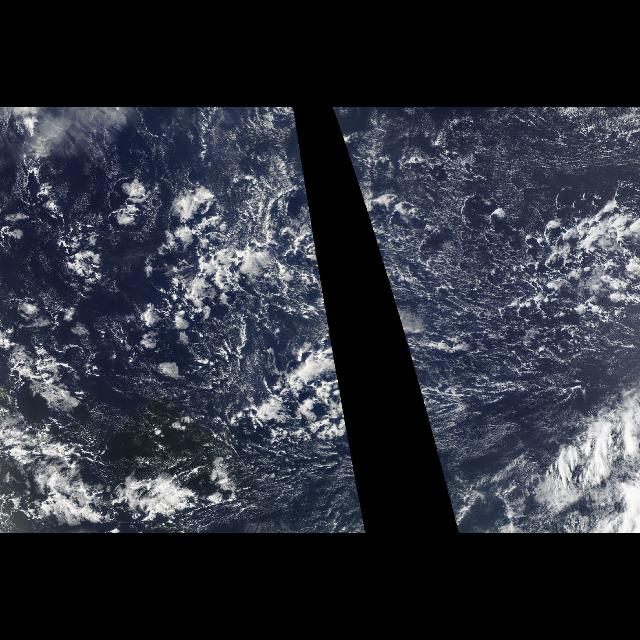Gravel: (7, 116, 351, 464), (333, 110, 639, 440)
Sugar: (237, 439, 366, 531), (425, 370, 583, 436)
